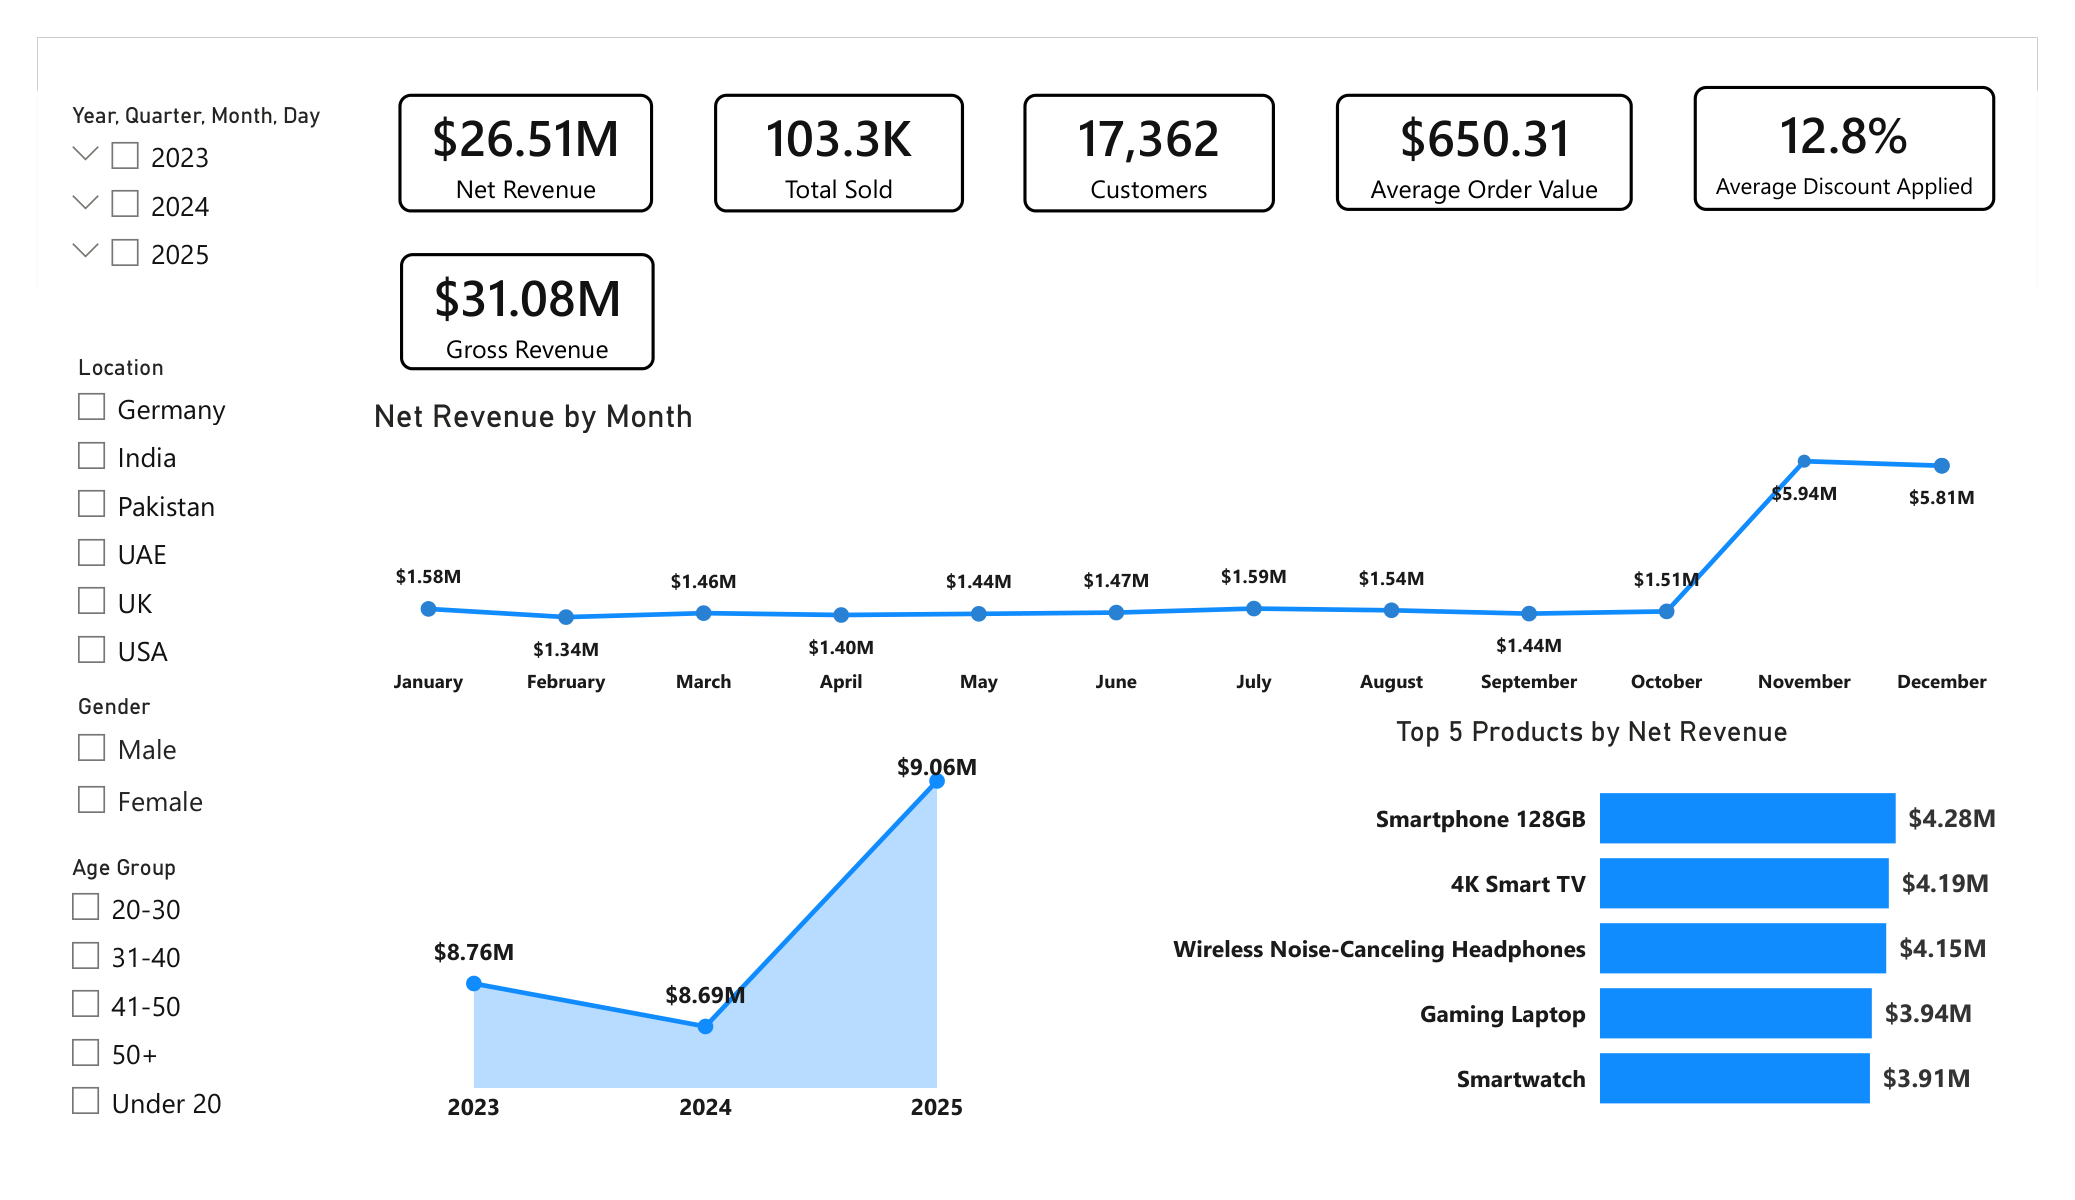

What the dashboard file says about the page in this screenshot:
{"tool":"powerbi","page":{"name":"Business Overview","canvas":[1280,720],"ordinal":0},"visuals":[{"type":"slicer","fields":{"Values":["global_ecommerce_data.Date.Variation.Date Hierarchy.Year","global_ecommerce_data.Date.Variation.Date Hierarchy.Quarter","global_ecommerce_data.Date.Variation.Date Hierarchy.Month","global_ecommerce_data.Date.Variation.Date Hierarchy.Day"]},"box":[9.2,36.7,200.3,161],"z":0},{"type":"slicer","fields":{"Values":["global_ecommerce_data.Location"]},"box":[13.1,197.7,130.9,217.3],"z":1000},{"type":"lineChart","title":"Net Revenue by Month","fields":{"Category":["global_ecommerce_data.Date.Variation.Date Hierarchy.Month"],"Y":["Sum(global_ecommerce_data.Total_Revenue)"]},"box":[209.7,230.3,1049.7,200],"z":2000},{"type":"cardVisual","fields":{"Data":["Sum(global_ecommerce_data.Total_Revenue)"]},"box":[214.3,18.6,197.1,110],"z":4000},{"type":"cardVisual","fields":{"Data":["Sum(global_ecommerce_data.Quantity)"]},"box":[415.6,18.6,194.3,110],"z":5000},{"type":"cardVisual","fields":{"Data":["Count(global_ecommerce_data.Customer_ID)"]},"box":[614.1,18.6,195.7,110],"z":6000},{"type":"cardVisual","fields":{"Data":["global_ecommerce_data.AOV"]},"box":[814,18.7,224.6,109.4],"z":7000},{"type":"lineChart","fields":{"Category":["global_ecommerce_data.Date.Variation.Date Hierarchy.Year"],"Y":["Sum(global_ecommerce_data.Total_Revenue_with_discount)"]},"box":[215.2,446.9,424.8,257.9],"z":9000},{"type":"cardVisual","fields":{"Data":["Avg(global_ecommerce_data.Discount_Applied)"]},"box":[1042.9,14.3,227.1,114.3],"z":11000},{"type":"barChart","title":"Top 5 Products by Net Revenue","fields":{"Category":["global_ecommerce_data.Product_Name"],"Y":["Sum(global_ecommerce_data.Net_Revenue)"]},"box":[720,433.1,550.3,271.7],"z":12001},{"type":"cardVisual","fields":{"Data":["Sum(global_ecommerce_data.Gross_Revenue)"]},"box":[214.6,121,197.3,109.4],"z":12002},{"type":"slicer","fields":{"Values":["global_ecommerce_data.Gender"]},"box":[13.1,415,107.3,103.4],"z":12005},{"type":"slicer","fields":{"Values":["global_ecommerce_data.Age Group"]},"box":[8.6,518.4,142.6,185.8],"z":12006}]}

Visuals, with their boxes on the page's 1280x720 design canvas (x1, y1, x2, y2). These are canvas units, not pixel positions in the 2075x1200 screenshot, which may show the page scaled, cropped or inside an application window:
slicer - global_ecommerce_data.Date.Variation.Date Hierarchy.Year x global_ecommerce_data.Date.Variation.Date Hierarchy.Quarter: [x1=9, y1=37, x2=210, y2=198]
slicer - global_ecommerce_data.Location: [x1=13, y1=198, x2=144, y2=415]
"Net Revenue by Month" lineChart: [x1=210, y1=230, x2=1259, y2=430]
cardVisual - Sum(global_ecommerce_data.Total_Revenue): [x1=214, y1=19, x2=411, y2=129]
cardVisual - Sum(global_ecommerce_data.Quantity): [x1=416, y1=19, x2=610, y2=129]
cardVisual - Count(global_ecommerce_data.Customer_ID): [x1=614, y1=19, x2=810, y2=129]
cardVisual - global_ecommerce_data.AOV: [x1=814, y1=19, x2=1039, y2=128]
lineChart - global_ecommerce_data.Date.Variation.Date Hierarchy.Year x Sum(global_ecommerce_data.Total_Revenue_with_discount): [x1=215, y1=447, x2=640, y2=705]
cardVisual - Avg(global_ecommerce_data.Discount_Applied): [x1=1043, y1=14, x2=1270, y2=129]
"Top 5 Products by Net Revenue" barChart: [x1=720, y1=433, x2=1270, y2=705]
cardVisual - Sum(global_ecommerce_data.Gross_Revenue): [x1=215, y1=121, x2=412, y2=230]
slicer - global_ecommerce_data.Gender: [x1=13, y1=415, x2=120, y2=518]
slicer - global_ecommerce_data.Age Group: [x1=9, y1=518, x2=151, y2=704]
